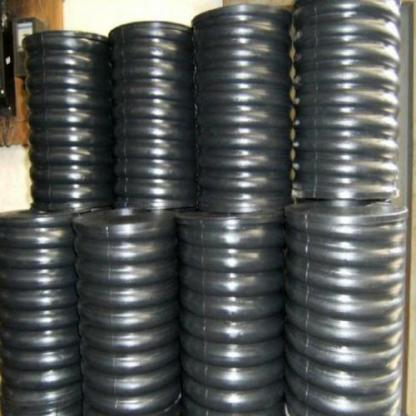FOD: (71, 205, 184, 415)
